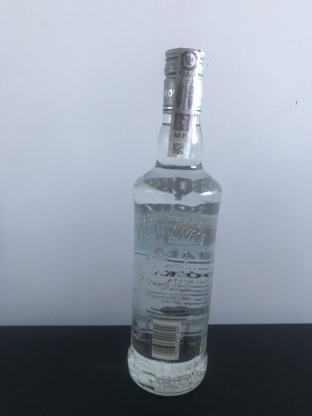nakretka: (160, 43, 207, 119)
